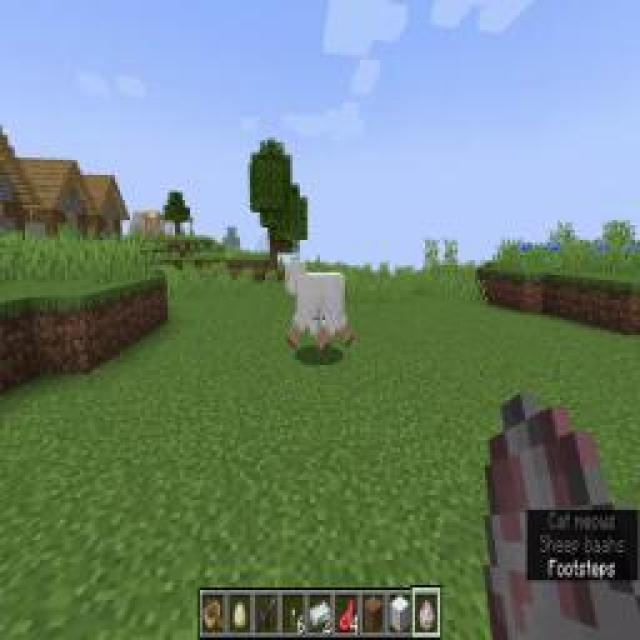Sheep: (285, 256, 355, 359)
